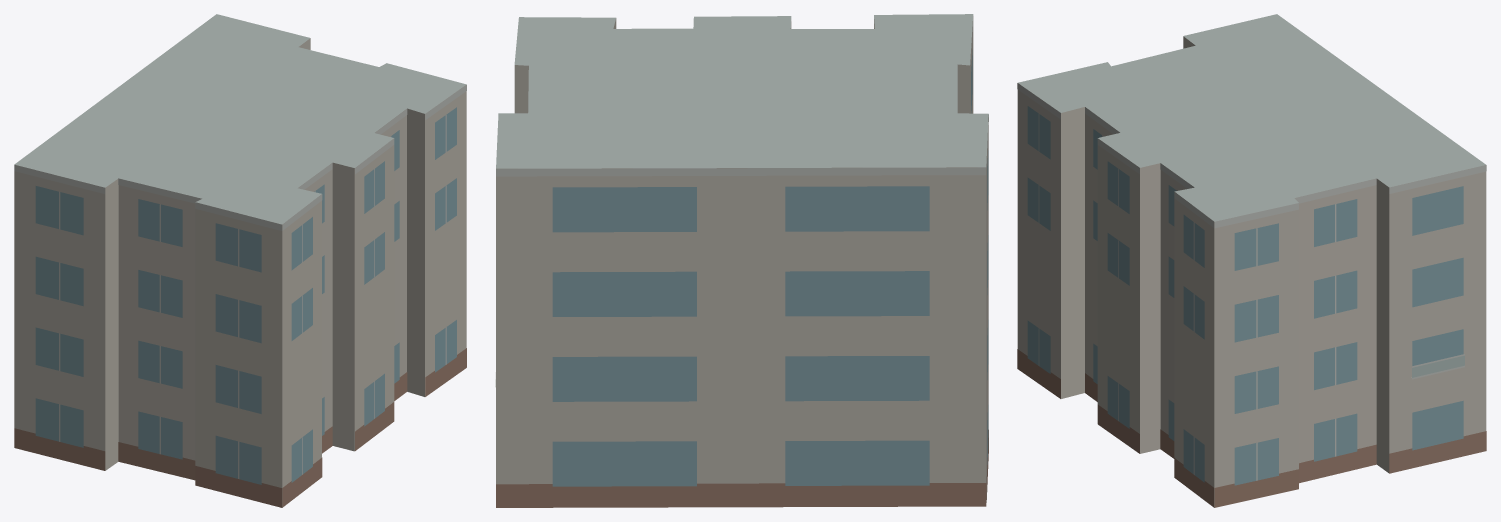
The model's file is survey-upis-32710908.glb.
3 views of the same model, side by side, from view 1: azimuth 30°, elevation 25°; view 2: azimuth 150°, elevation 25°; view 3: azimuth 270°, elevation 25° (orthographic). The views are drawn at different scales.
Visible parts, largest first — view 1: survey-upis-32710908.tmp; view 2: survey-upis-32710908.tmp; view 3: survey-upis-32710908.tmp.
Boxes of the visible parts, bbox=[...] form: survey-upis-32710908.tmp: bbox=[14, 14, 466, 507]; survey-upis-32710908.tmp: bbox=[495, 14, 988, 507]; survey-upis-32710908.tmp: bbox=[1017, 14, 1486, 507].
Size of the model in its own units: 16.42 by 10.54 by 15.66.
